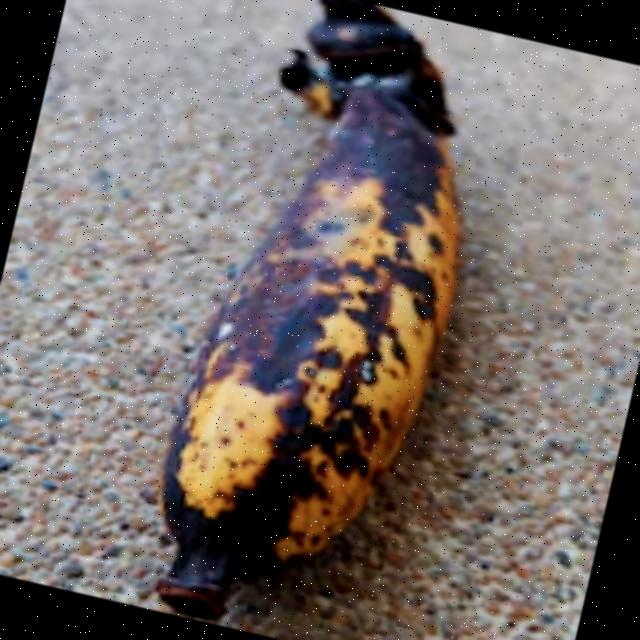Rotten: (100, 0, 543, 640)
